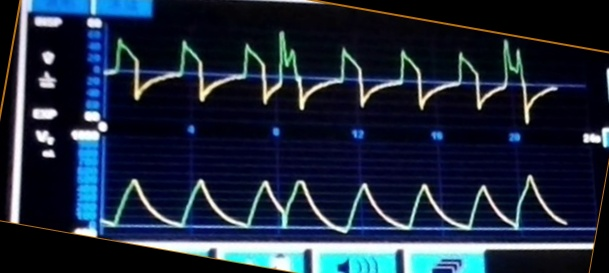Double_Triggering Flow: (113, 30, 533, 125)
Double_Triggering Volume: (106, 169, 562, 235)
